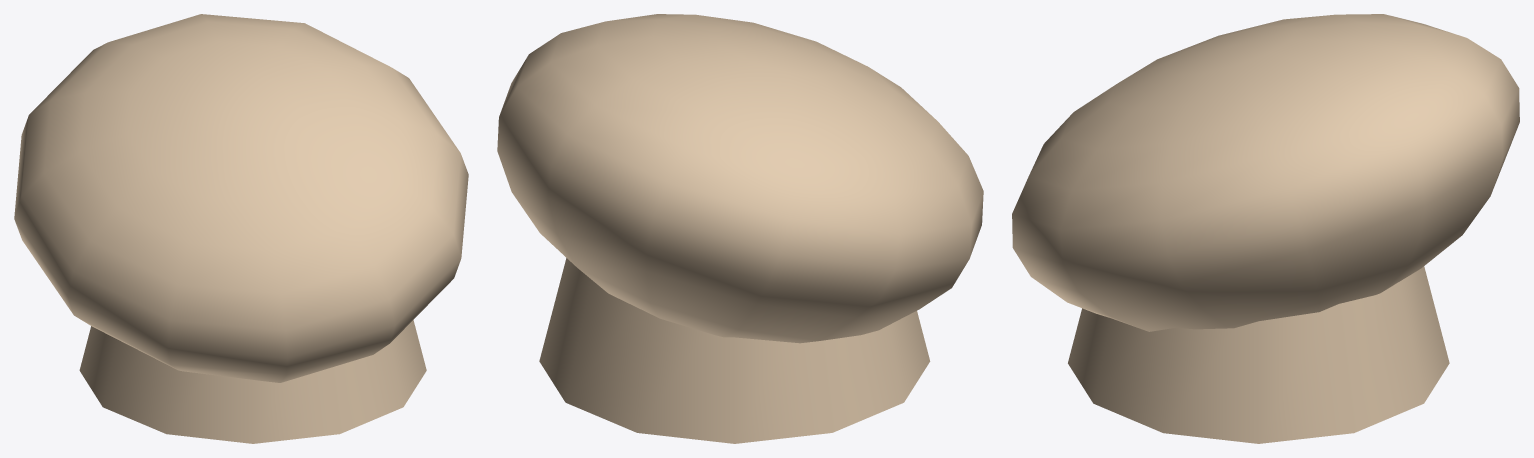
File: Hat_Chef.fbx
The picture shows the model from 3 angles, left to right: view 1: azimuth 30°, elevation 25°; view 2: azimuth 150°, elevation 25°; view 3: azimuth 270°, elevation 25°; orthographic projection. The views are drawn at different scales.
Parts seen in each view (by area): view 1: Hat_Chef1; view 2: Hat_Chef1; view 3: Hat_Chef1.
Boxes of the visible parts, x1,y1,x2,y2 form: Hat_Chef1: (14, 14, 468, 443); Hat_Chef1: (497, 14, 983, 443); Hat_Chef1: (1012, 14, 1519, 443).
Bounding box in the file's own units: 1.38 × 1.04 × 1.47.
